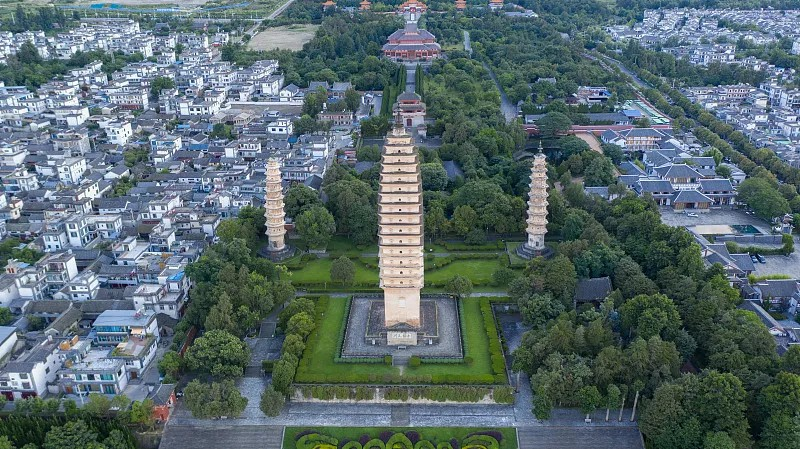ThreePagoda: (377, 102, 424, 327)
